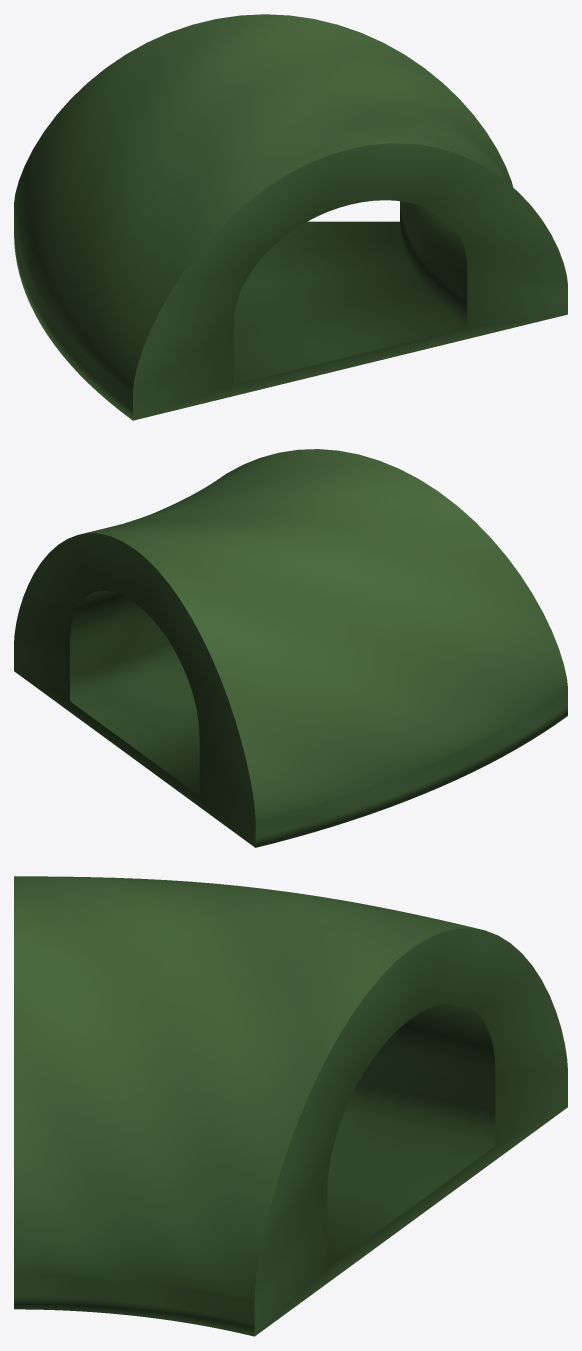
The model's file is curve_right_30_terrain.glb.
The picture shows the model from 3 angles, top to bottom: view 1: azimuth 30°, elevation 25°; view 2: azimuth 150°, elevation 25°; view 3: azimuth 270°, elevation 25°; orthographic projection. The views are drawn at different scales.
Parts seen in each view (by area): view 1: TerrainRoof.008; view 2: TerrainRoof.008; view 3: TerrainRoof.008.
Part boxes in pixels (x1,y1,x2,y2): TerrainRoof.008: (14,14,567,420); TerrainRoof.008: (14,449,567,847); TerrainRoof.008: (14,876,567,1336).
Size of the model in its own units: 31.32 by 13.65 by 25.1.
